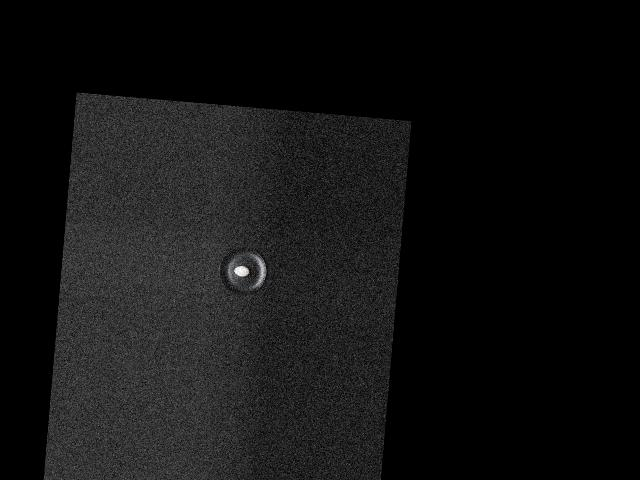egg: (234, 265, 250, 277)
